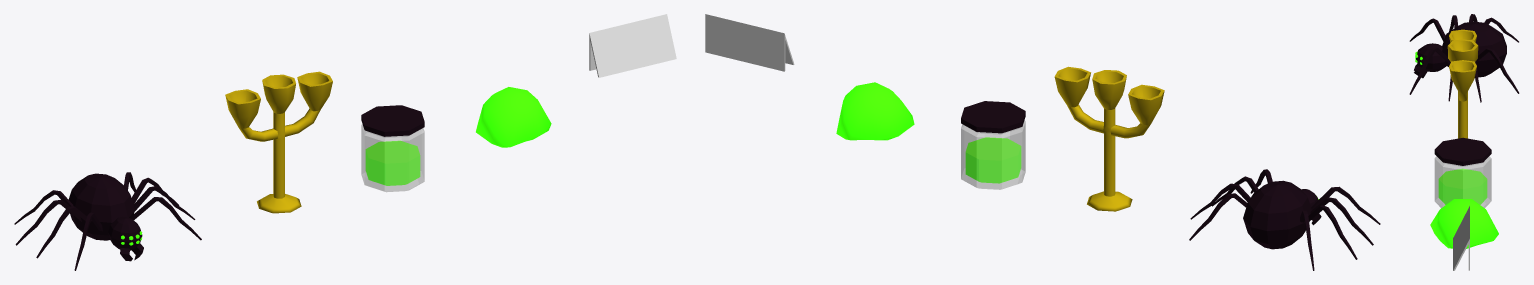
3 views of the same model, side by side, from view 1: azimuth 30°, elevation 25°; view 2: azimuth 150°, elevation 25°; view 3: azimuth 270°, elevation 25° (orthographic). The views are drawn at different scales.
Parts seen in each view (by area): view 1: Spider, Chandelier, Bottle, Sign, Slime, Bottle Goo; view 2: Spider, Chandelier, Bottle, Slime, Sign, Bottle Goo; view 3: Bottle, Spider, Slime, Chandelier, Bottle Goo, Sign.
Part boxes in pixels (x1,y1,x2,y2): Spider: (14, 172, 201, 270); Chandelier: (225, 71, 332, 213); Bottle: (361, 105, 424, 192); Sign: (589, 14, 676, 77); Slime: (476, 87, 551, 147); Bottle Goo: (365, 140, 420, 185); Spider: (1189, 169, 1380, 270); Chandelier: (1054, 66, 1164, 211); Bottle: (961, 101, 1025, 189); Slime: (836, 82, 914, 140); Sign: (705, 14, 794, 71); Bottle Goo: (965, 137, 1021, 183); Bottle: (1434, 137, 1491, 207); Spider: (1409, 14, 1519, 102); Slime: (1430, 199, 1498, 248); Chandelier: (1447, 29, 1478, 138); Bottle Goo: (1438, 168, 1487, 204); Sign: (1453, 206, 1469, 270).
Bounding box in the file's own units: 2266 × 427 × 386.
